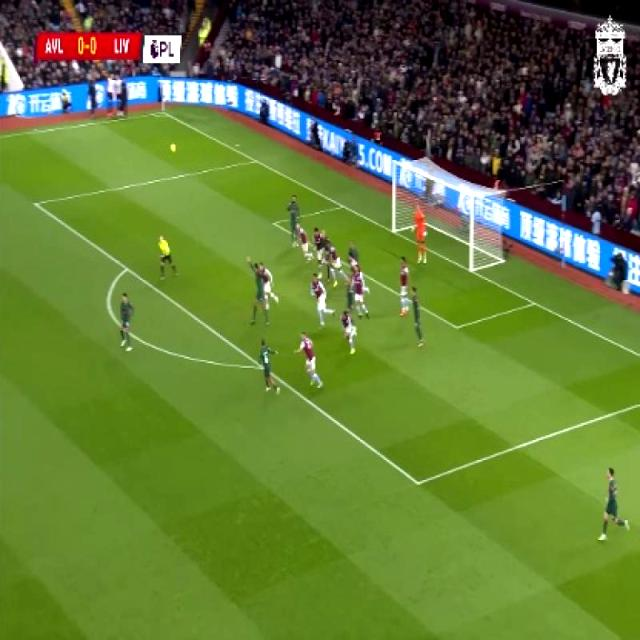bigarea_bottom_inner: (404, 464, 430, 499)
bigarea_top_inner: (26, 192, 44, 212)
bigarea_top_outter: (248, 150, 262, 168)
bottom_arc_area_intersection: (252, 355, 268, 375)
corner: (152, 104, 171, 119)
smallarea_bottom_inner: (446, 310, 466, 340)
smallarea_bottom_outter: (525, 291, 543, 312)
smallarea_top_inner: (266, 214, 282, 232)
smallarea_top_outter: (334, 196, 349, 214)
top_arc_area_intersection: (116, 257, 134, 277)
